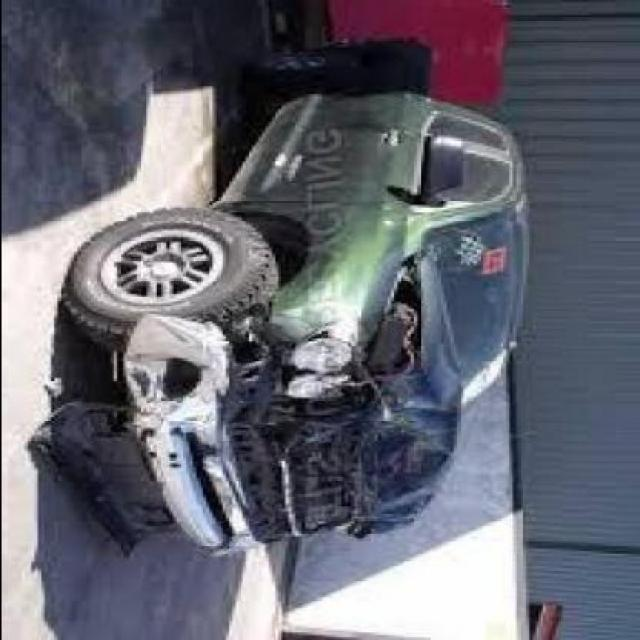damage: (30, 246, 455, 559)
